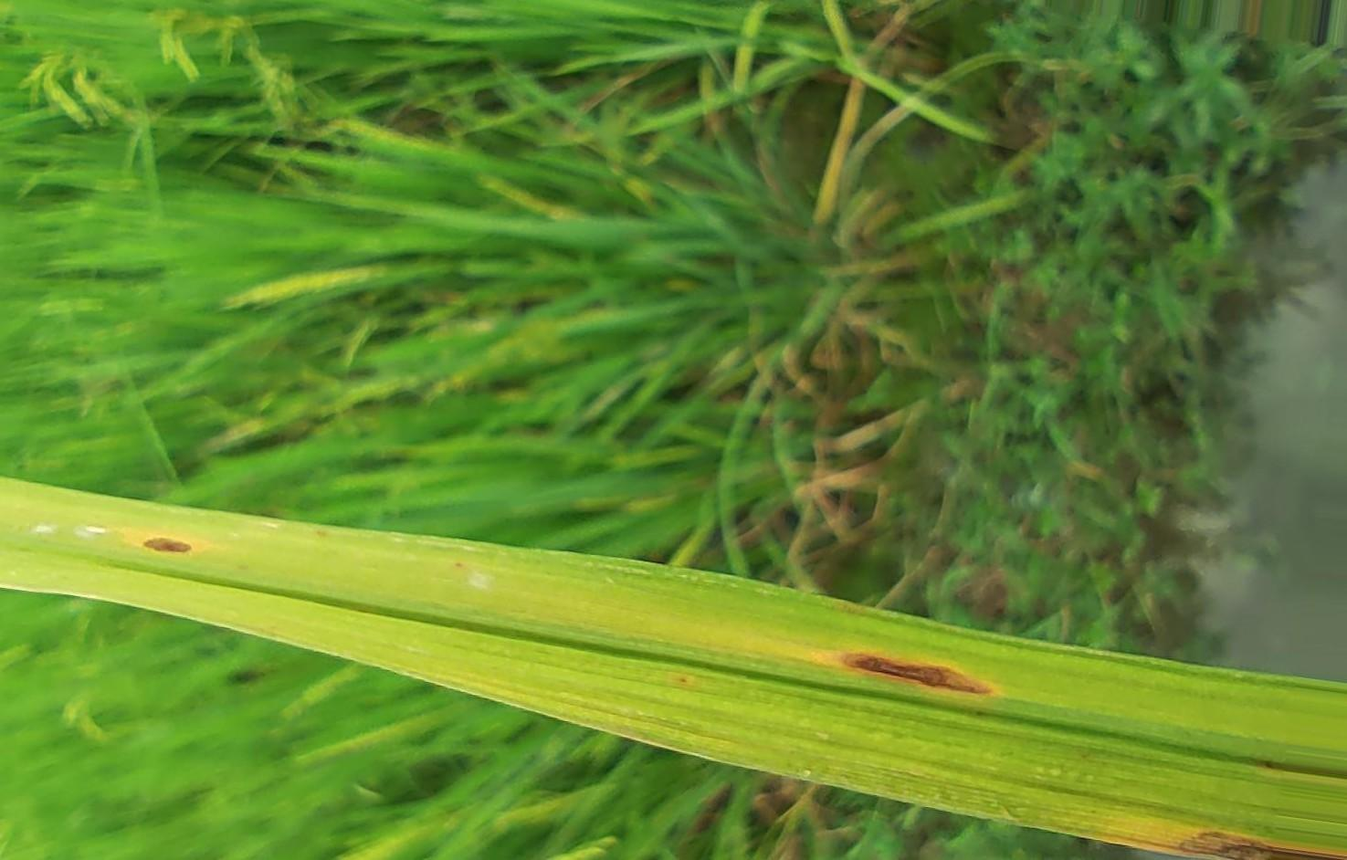LEAF: (0, 479, 1346, 859)
NBS: (842, 653, 990, 694), (1159, 830, 1346, 859), (143, 538, 191, 552), (676, 677, 689, 683), (317, 530, 326, 538), (455, 563, 463, 567)
